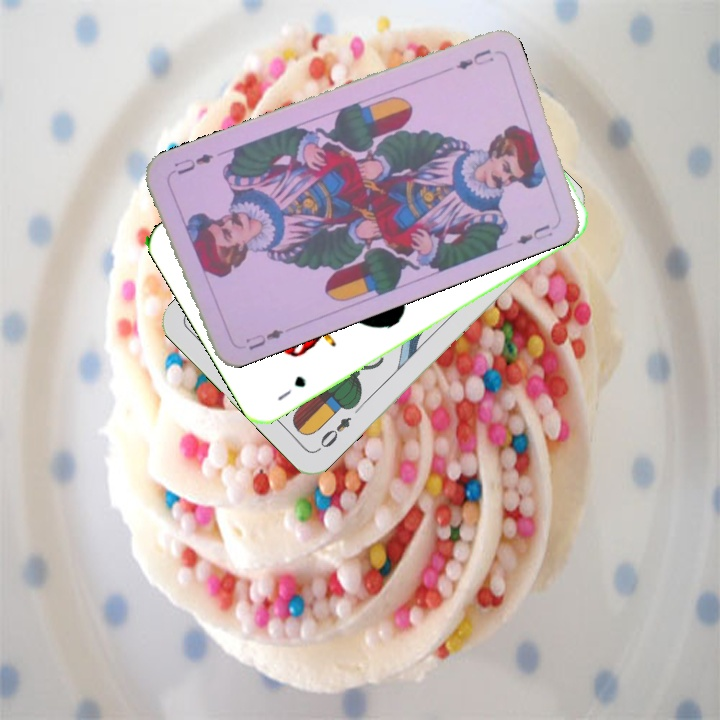EO: (313, 412, 354, 454)
EU: (241, 325, 286, 353), (452, 45, 497, 73)
GU: (273, 371, 309, 404)
